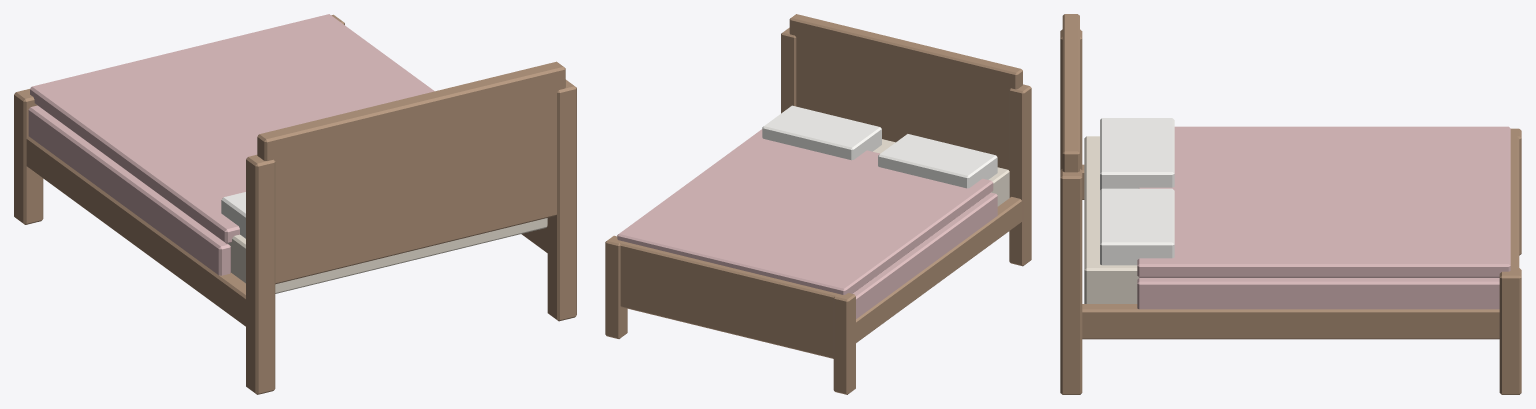
The model's file is SM_Bed_Old.fbx.
3 renders of one model, left to right at view 1: azimuth 30°, elevation 25°; view 2: azimuth 150°, elevation 25°; view 3: azimuth 270°, elevation 25°, orthographic. The views are drawn at different scales.
Visible parts, largest first — view 1: Bed_Old; view 2: Bed_Old; view 3: Bed_Old.
Boxes of the visible parts, box(x1,y1,x2,y2) form: Bed_Old: box(14, 14, 576, 394); Bed_Old: box(605, 14, 1031, 394); Bed_Old: box(1060, 14, 1521, 394).
Bounding box in the file's own units: 160 × 120 × 210.
